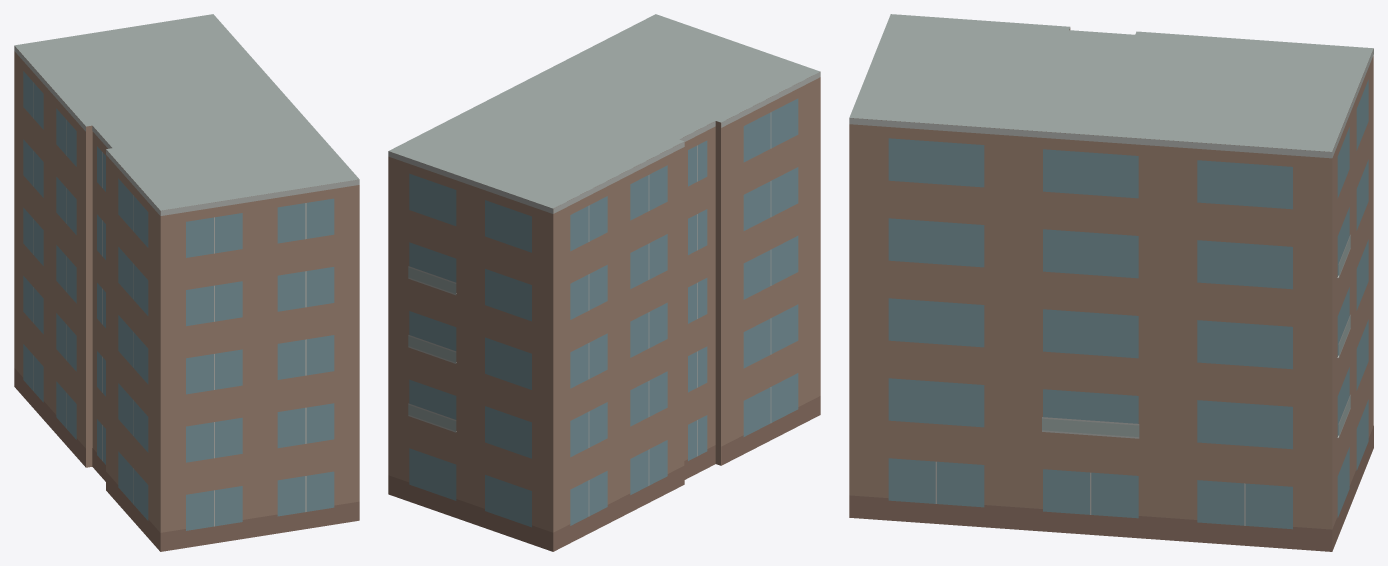
The model's file is survey-upis-33017361.glb.
The picture shows the model from 3 angles, left to right: view 1: azimuth 30°, elevation 25°; view 2: azimuth 150°, elevation 25°; view 3: azimuth 270°, elevation 25°; orthographic projection. The views are drawn at different scales.
Visible parts, largest first — view 1: survey-upis-33017361.tmp; view 2: survey-upis-33017361.tmp; view 3: survey-upis-33017361.tmp.
Boxes of the visible parts, x1,y1,x2,y2 form: survey-upis-33017361.tmp: (14,14,359,551); survey-upis-33017361.tmp: (388,14,820,551); survey-upis-33017361.tmp: (849,14,1373,551).
Size of the model in its own units: 11.29 by 15.25 by 18.13.
